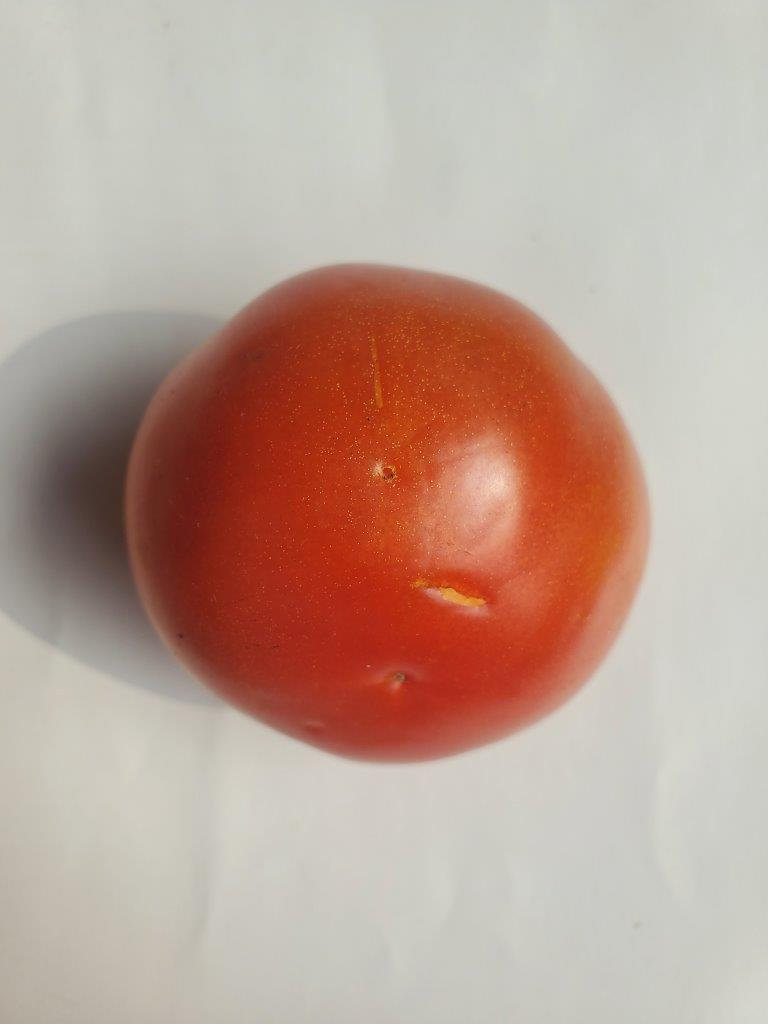surface_damage: (420, 585, 491, 609), (381, 467, 396, 480)
tomato: (126, 265, 647, 761)
